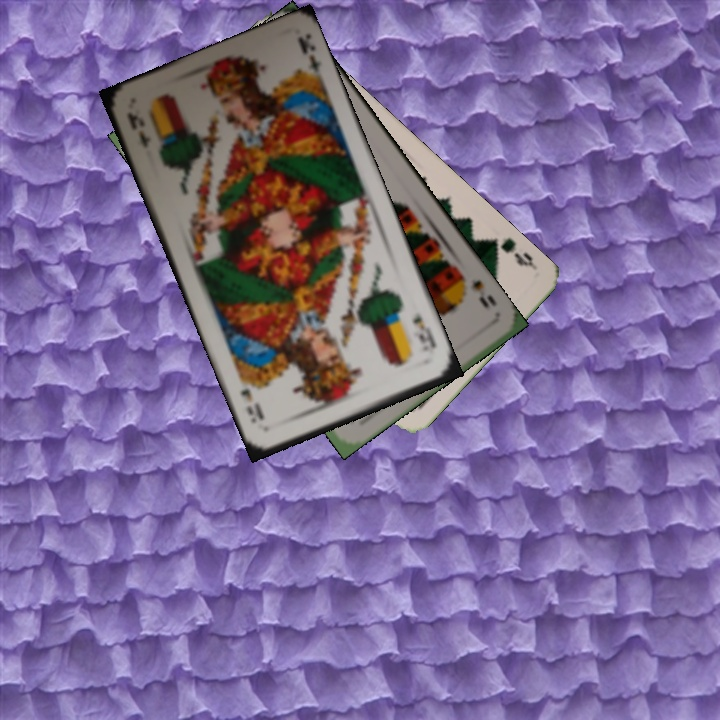EK: (123, 108, 154, 151), (408, 309, 439, 351)
G9: (484, 233, 539, 272)
S9: (466, 275, 500, 311)
